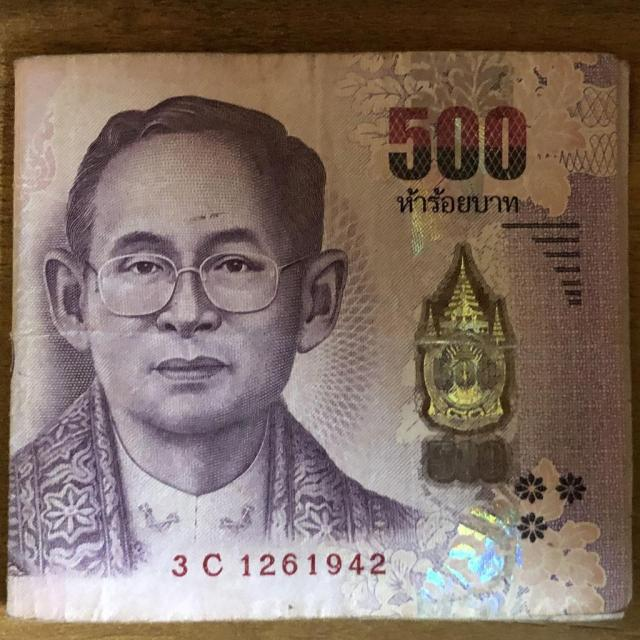THAI500: (6, 51, 639, 626)
